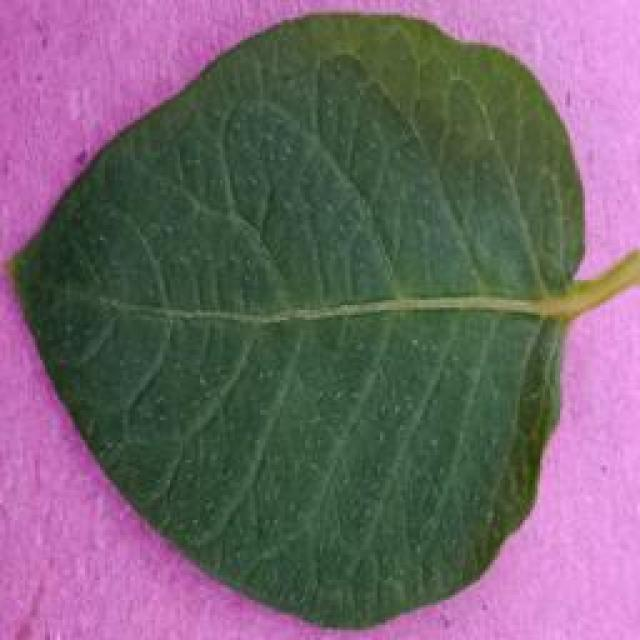Potato_Healthy: (3, 12, 614, 625)
